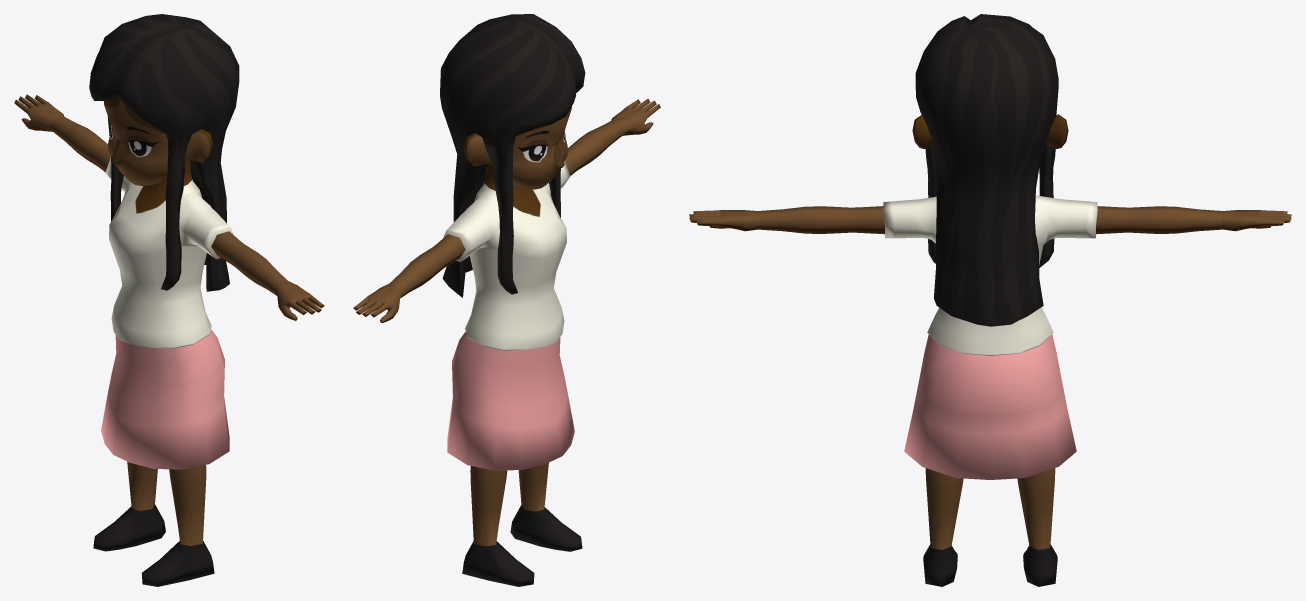
Rendered from girl_6.fbx.
3 renders of one model, left to right at view 1: azimuth 30°, elevation 25°; view 2: azimuth 150°, elevation 25°; view 3: azimuth 270°, elevation 25°, orthographic. The views are drawn at different scales.
Visible parts, largest first — view 1: girl_6; view 2: girl_6; view 3: girl_6.
Boxes of the visible parts, x1,y1,x2,y2 form: girl_6: (14, 14, 324, 586); girl_6: (353, 14, 660, 586); girl_6: (689, 14, 1291, 586).
Bounding box in the file's own units: 34.45 × 137 × 136.
1 material, 1 textured.
